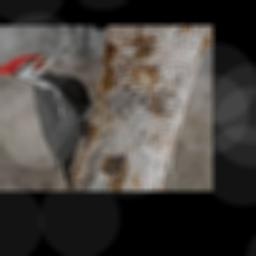Woodpecker: (0, 46, 92, 183)
